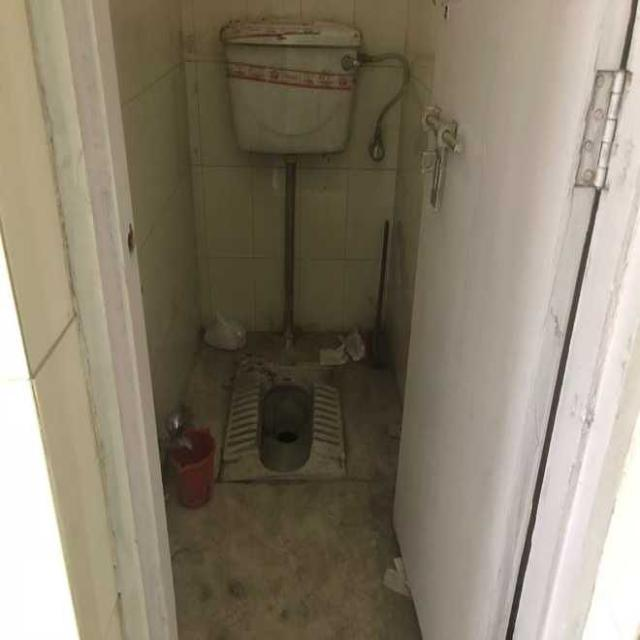dirty_floor: (114, 2, 431, 637), (162, 329, 420, 637), (218, 15, 365, 159), (215, 354, 351, 484), (255, 376, 316, 472)
